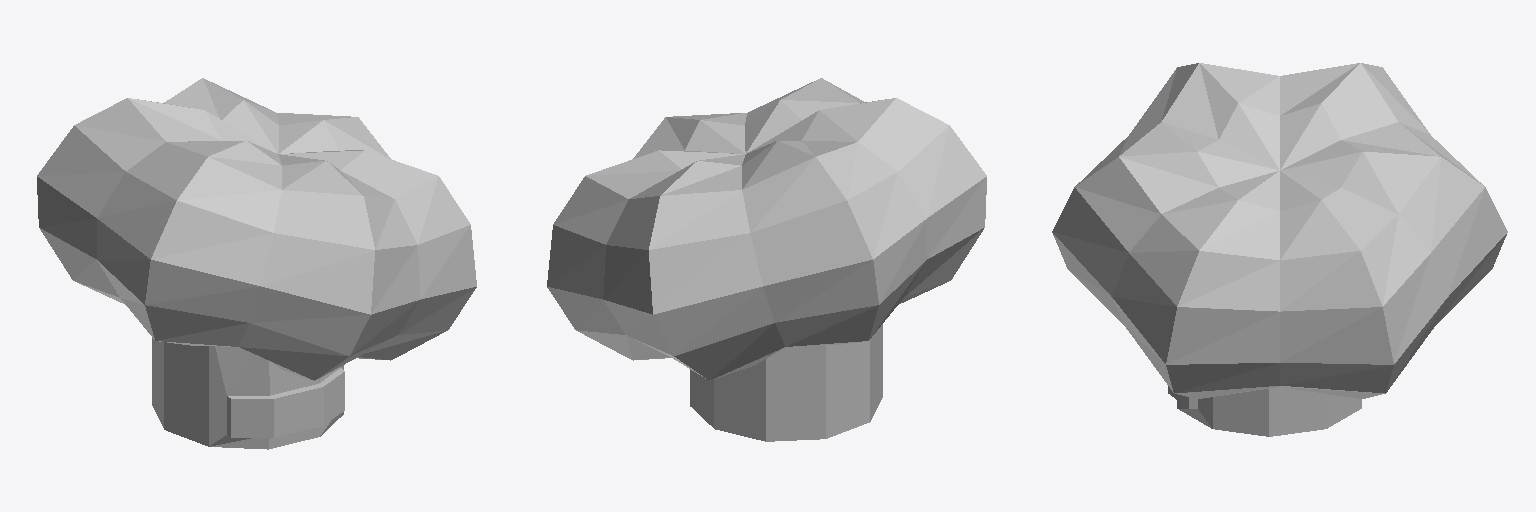
File: hat.obj
3 renders of one model, left to right at view 1: azimuth 30°, elevation 25°; view 2: azimuth 150°, elevation 25°; view 3: azimuth 270°, elevation 25°, orthographic.
Parts seen in each view (by area): view 1: initialShadingGroup pSphere1 Chef_Hat, initialShadingGroup Chef_Hat pCylinder1; view 2: initialShadingGroup pSphere1 Chef_Hat, initialShadingGroup Chef_Hat pCylinder1; view 3: initialShadingGroup pSphere1 Chef_Hat, initialShadingGroup Chef_Hat pCylinder1.
Boxes of the visible parts, x1=… form: initialShadingGroup pSphere1 Chef_Hat: x1=37, y1=78, x2=476, y2=380; initialShadingGroup Chef_Hat pCylinder1: x1=152, y1=338, x2=344, y2=449; initialShadingGroup pSphere1 Chef_Hat: x1=547, y1=78, x2=986, y2=380; initialShadingGroup Chef_Hat pCylinder1: x1=690, y1=324, x2=882, y2=441; initialShadingGroup pSphere1 Chef_Hat: x1=1052, y1=63, x2=1507, y2=398; initialShadingGroup Chef_Hat pCylinder1: x1=1168, y1=386, x2=1361, y2=436.
Bounding box in the file's own units: 2.74 × 2.39 × 3.29.